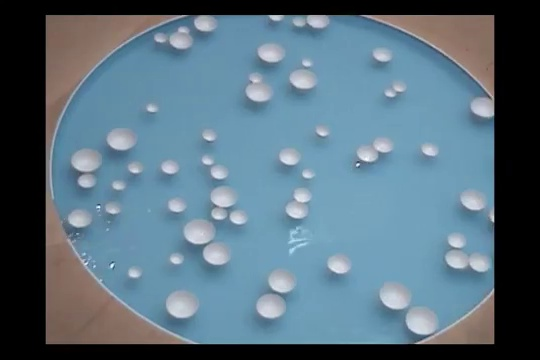bowl: (163, 288, 203, 319), (405, 305, 441, 337), (379, 279, 414, 310), (254, 292, 289, 320), (183, 218, 217, 246), (201, 241, 233, 267), (106, 126, 140, 150), (243, 82, 277, 106), (268, 266, 298, 293), (254, 41, 290, 63), (288, 68, 320, 92), (459, 187, 489, 212), (70, 148, 102, 171), (209, 184, 239, 208), (170, 29, 198, 53), (327, 251, 353, 275), (443, 248, 470, 271), (470, 94, 494, 119), (471, 247, 493, 274), (67, 208, 94, 229), (284, 199, 312, 219), (355, 144, 383, 164), (278, 145, 304, 166), (194, 15, 220, 33), (445, 229, 469, 248), (372, 44, 396, 63), (229, 207, 250, 227), (420, 141, 441, 160), (309, 14, 331, 32), (167, 195, 188, 213), (373, 136, 395, 153), (77, 173, 98, 190), (292, 187, 313, 204), (314, 123, 334, 140), (160, 160, 182, 175), (200, 126, 218, 143), (105, 200, 123, 216), (127, 266, 146, 281), (211, 166, 231, 180), (169, 251, 186, 267), (128, 162, 146, 177), (210, 207, 229, 221), (290, 15, 309, 29), (248, 70, 267, 83), (145, 101, 162, 115), (300, 55, 317, 69), (153, 31, 171, 44), (302, 166, 319, 179), (110, 180, 128, 192), (392, 78, 407, 92), (200, 153, 215, 166), (384, 86, 399, 98), (269, 14, 287, 22), (176, 24, 191, 33), (489, 206, 495, 226)
